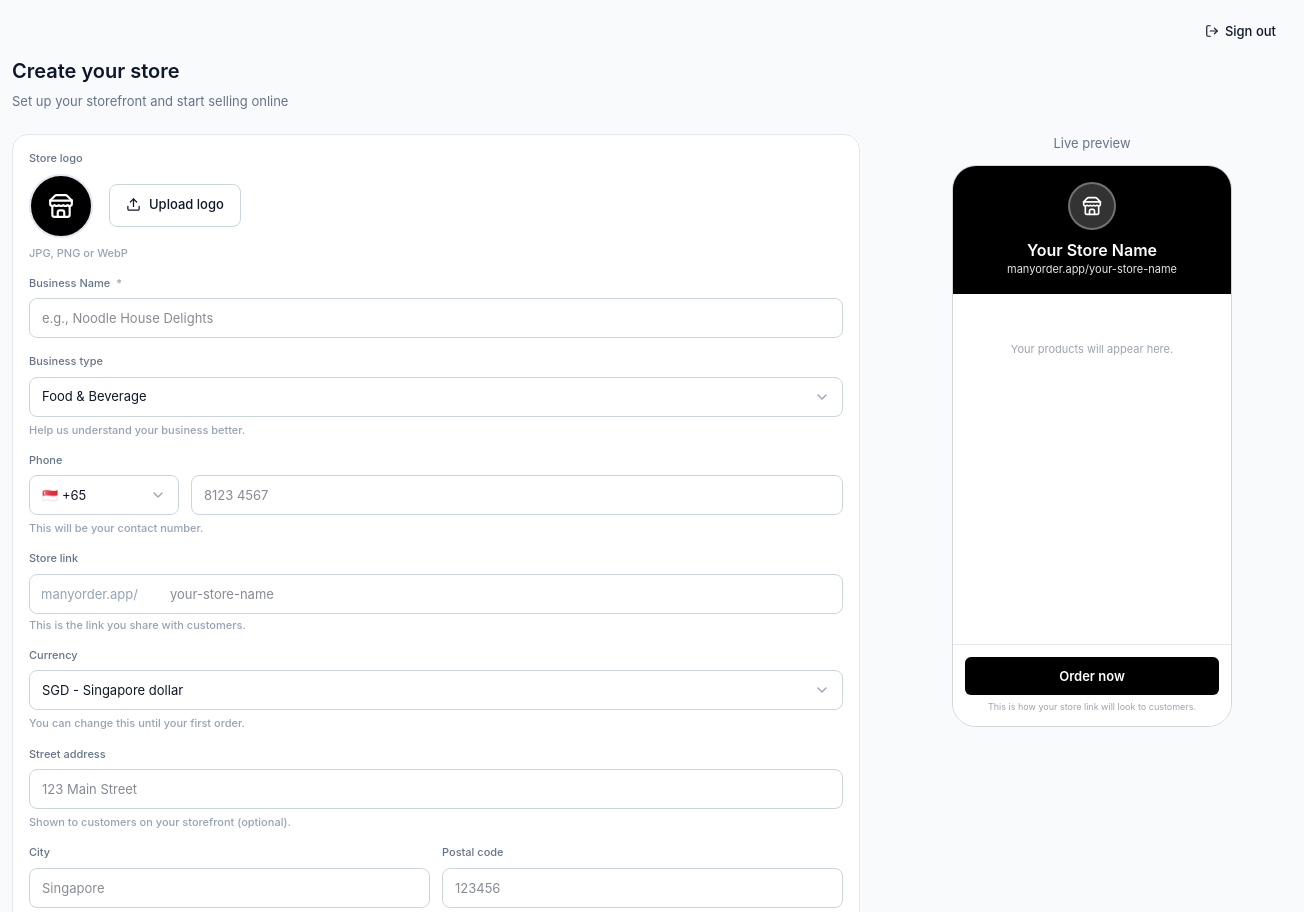
Test: CreateStore slug availability › shows the unavailable message and suggestions for a taken link
Type "taken" into the field with placeholder "your-store-name" at [436, 594], box [29,574,843,614]
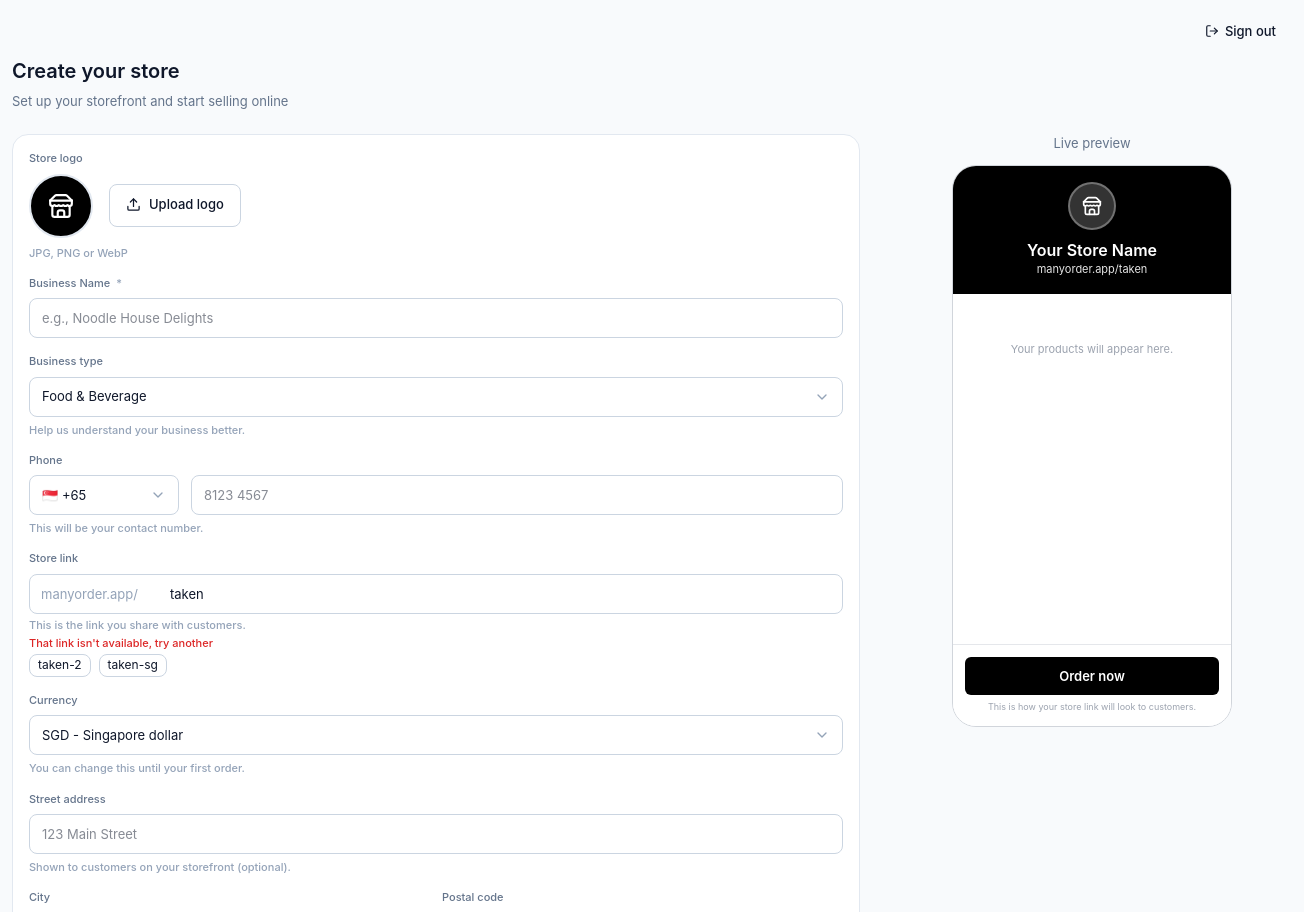
expect the text "That link isn't available, try another" is shown: met, box [29,636,213,650]
expect the button "taken-2" is shown: met, box [29,654,91,677]
expect the button "taken-sg" is shown: met, box [99,654,167,677]
